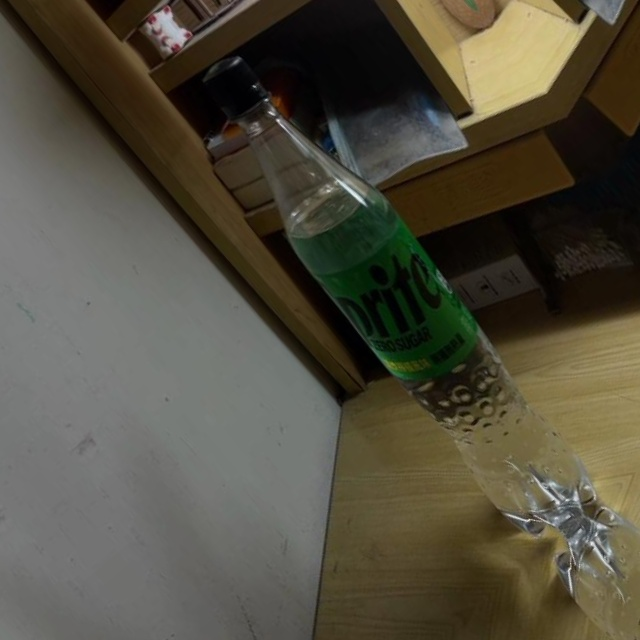Sprite: (163, 36, 625, 556)
